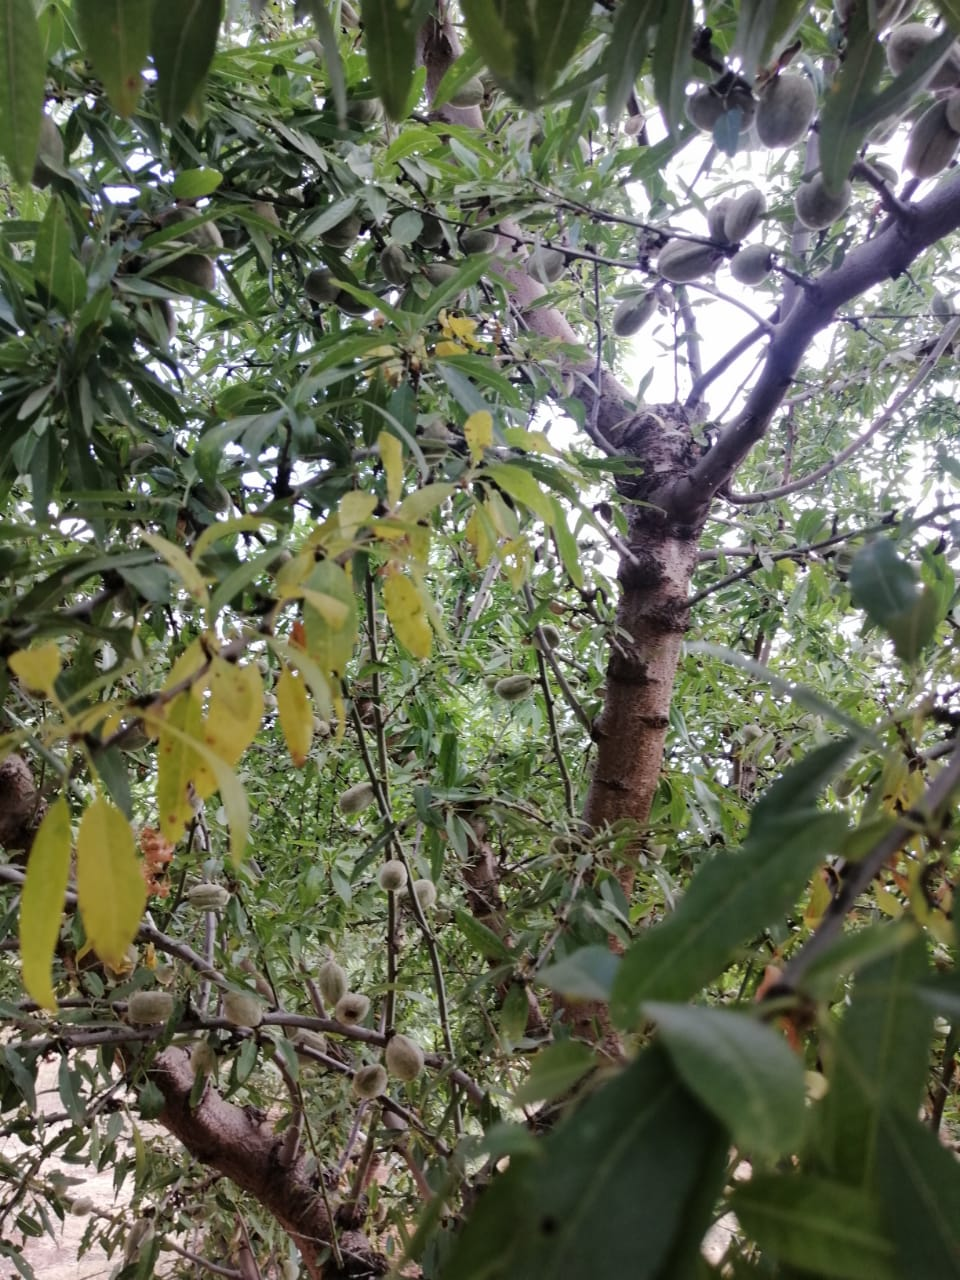chancre fusicocum: (1, 408, 580, 1019)
